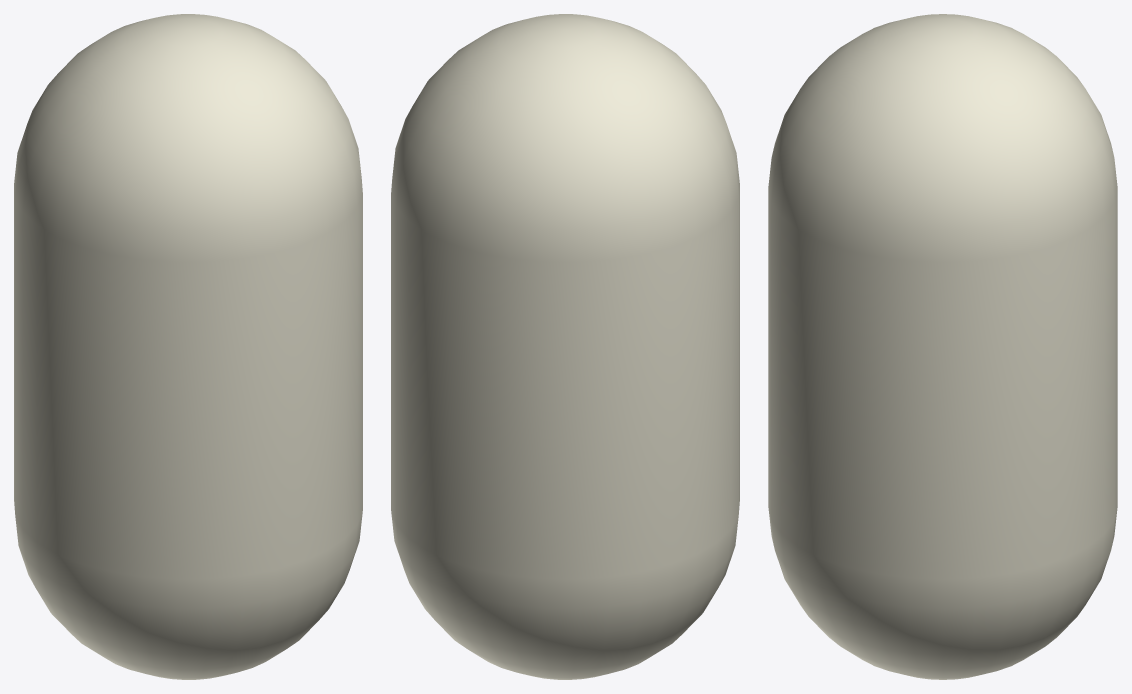
Rendered from Shape_NarrowCapsule.glb.
3 views of the same model, side by side, from view 1: azimuth 30°, elevation 25°; view 2: azimuth 150°, elevation 25°; view 3: azimuth 270°, elevation 25° (orthographic).
Parts seen in each view (by area): view 1: Shape_NarrowCapsule; view 2: Shape_NarrowCapsule; view 3: Shape_NarrowCapsule.
Boxes of the visible parts, box(x1,y1,x2,y2) form: Shape_NarrowCapsule: box(14, 14, 362, 679); Shape_NarrowCapsule: box(391, 14, 739, 679); Shape_NarrowCapsule: box(768, 14, 1117, 679).
Bounding box in the file's own units: 0.5 × 1 × 0.5.
